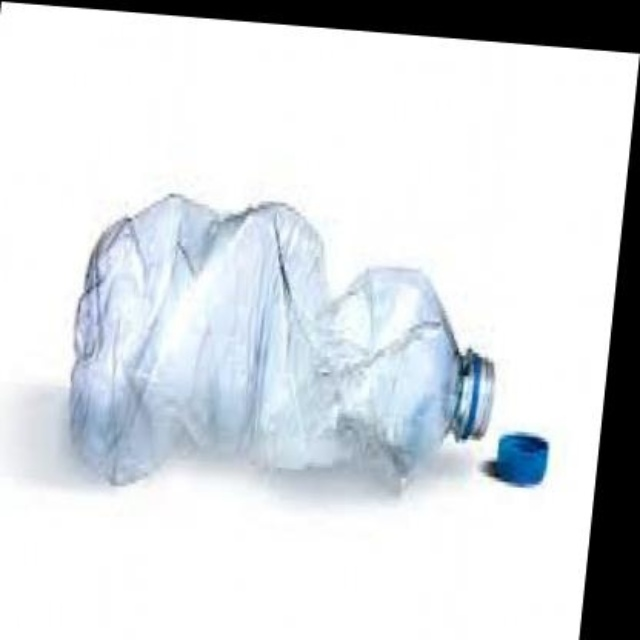trash: (71, 194, 492, 482)
